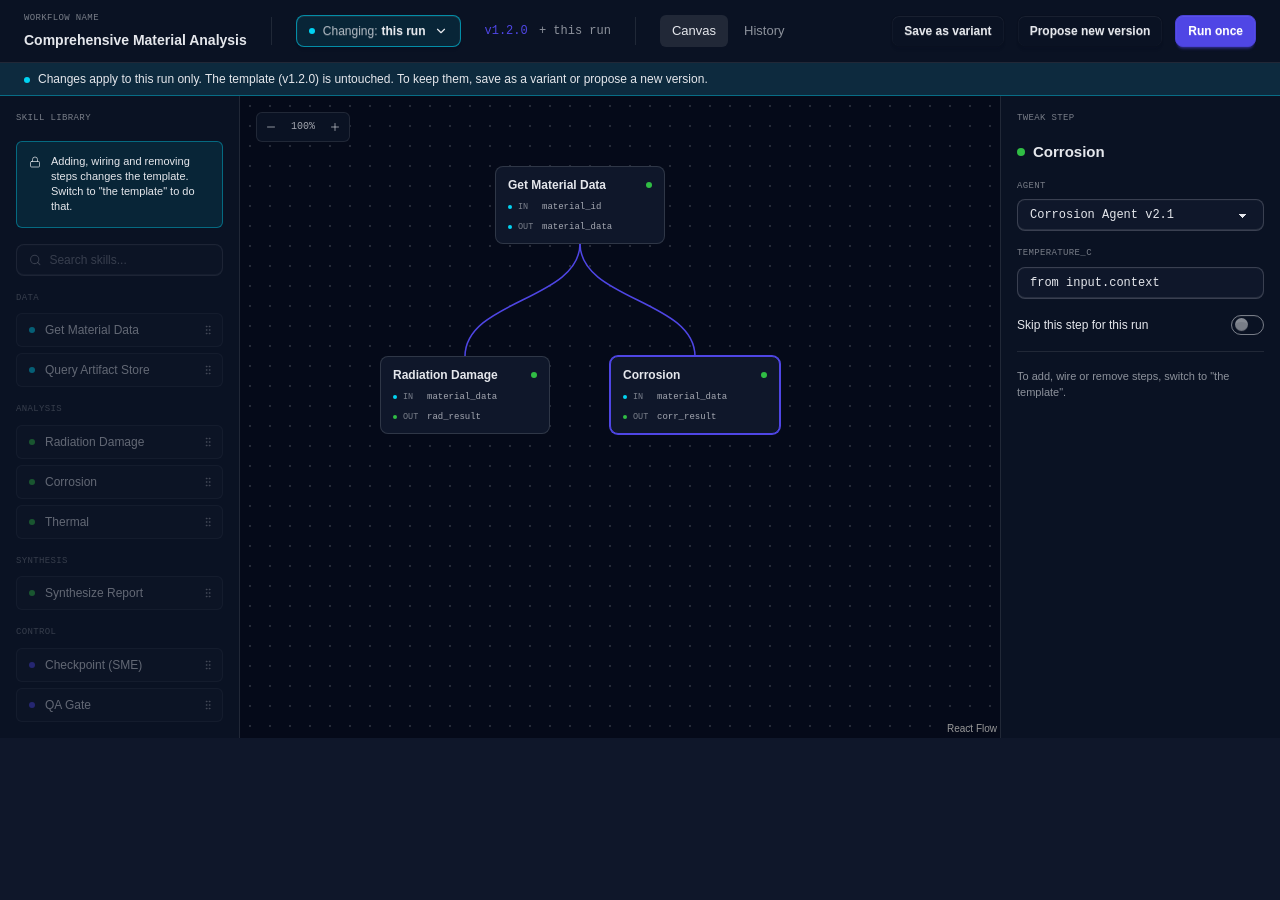
Test: the version link opens the History tab, and reads + this run when changing this run
Later steps or results of the test are not shown.
Click the button "v1.2.0 + this run". click: (548, 31)
box: [484,23,611,39]
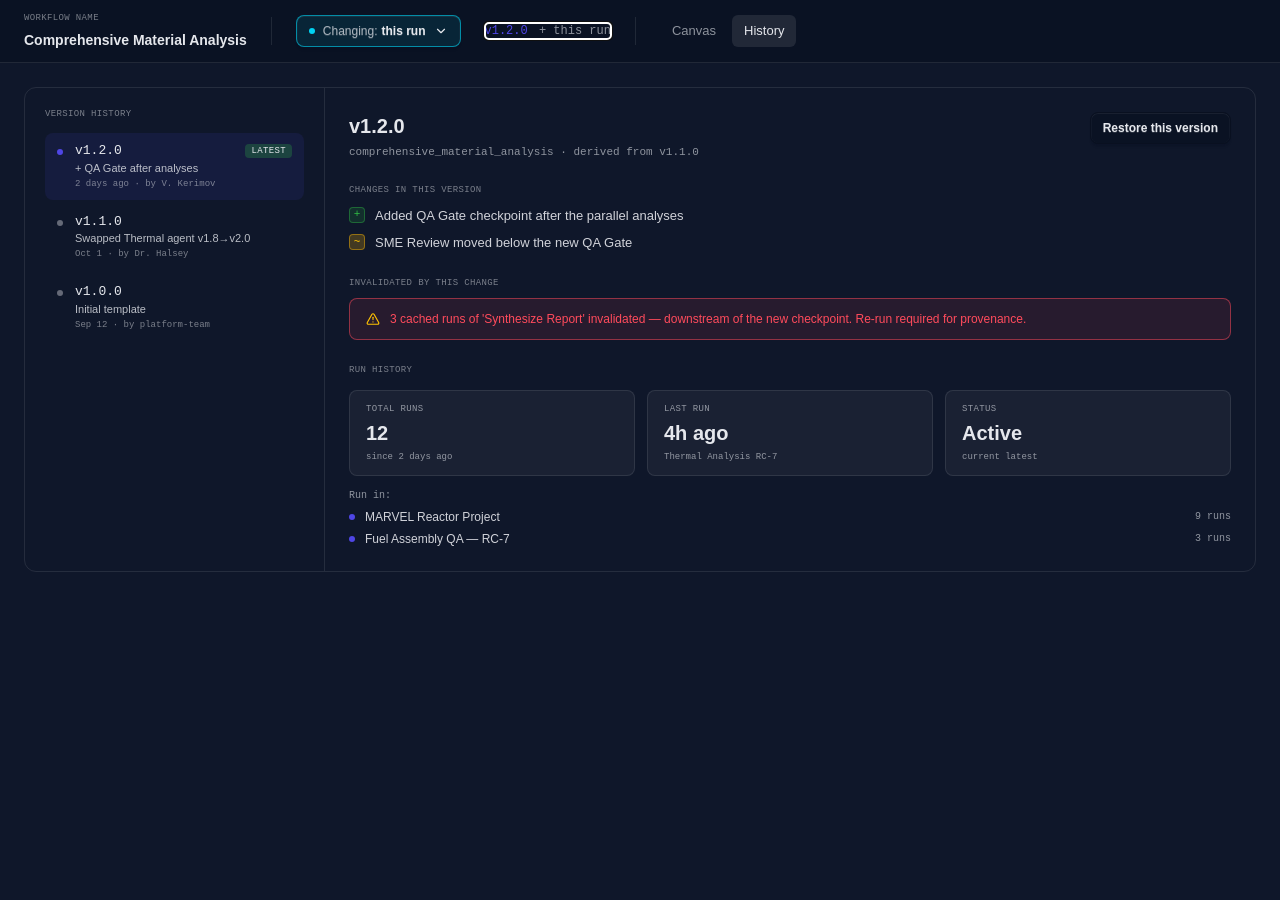
Result: the element "Version history" is shown at [25,88,325,570]
